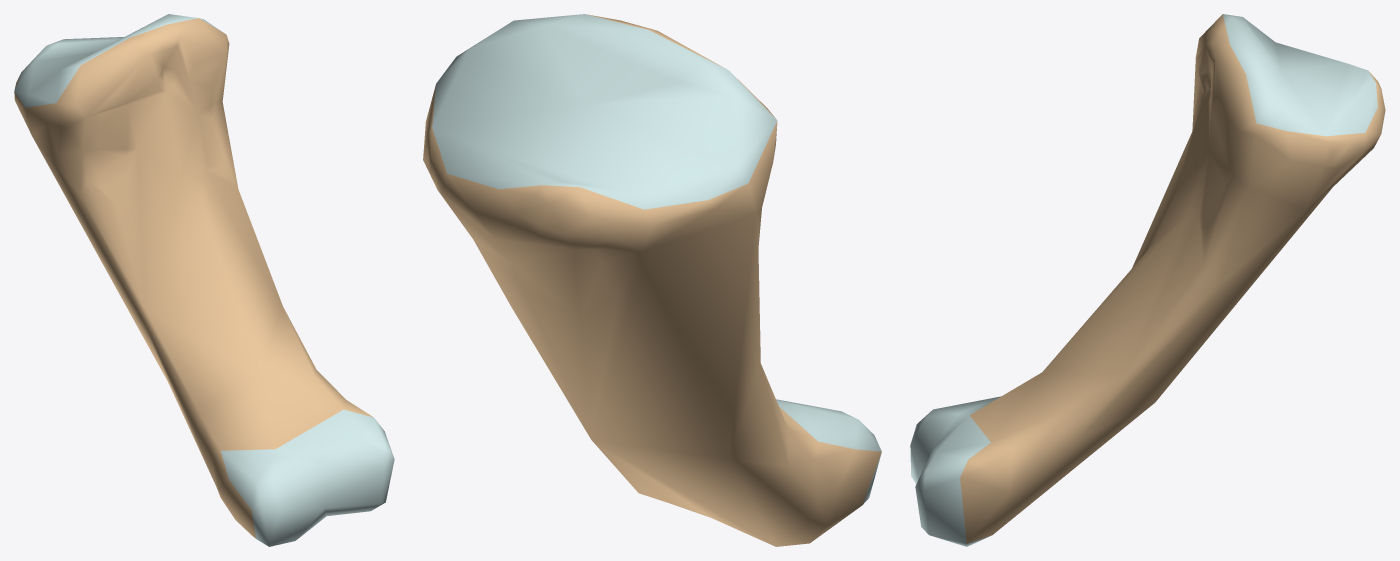
The model's file is Middle_phalanx_of_3rd_finger.l_Generated_Mesh_From_X3D.717.glb.
3 renders of one model, left to right at view 1: azimuth 30°, elevation 25°; view 2: azimuth 150°, elevation 25°; view 3: azimuth 270°, elevation 25°, orthographic. The views are drawn at different scales.
Parts seen in each view (by area): view 1: Middle_phalanx_of_3rd_finger.l_Generated_Mesh_From_X3D.717; view 2: Middle_phalanx_of_3rd_finger.l_Generated_Mesh_From_X3D.717; view 3: Middle_phalanx_of_3rd_finger.l_Generated_Mesh_From_X3D.717.
Part boxes in pixels (x1,y1,x2,y2): Middle_phalanx_of_3rd_finger.l_Generated_Mesh_From_X3D.717: (14,14,394,546); Middle_phalanx_of_3rd_finger.l_Generated_Mesh_From_X3D.717: (423,14,881,546); Middle_phalanx_of_3rd_finger.l_Generated_Mesh_From_X3D.717: (910,14,1385,546).
Size of the model in its own units: 0.0142 by 0.0263 by 0.0238.
